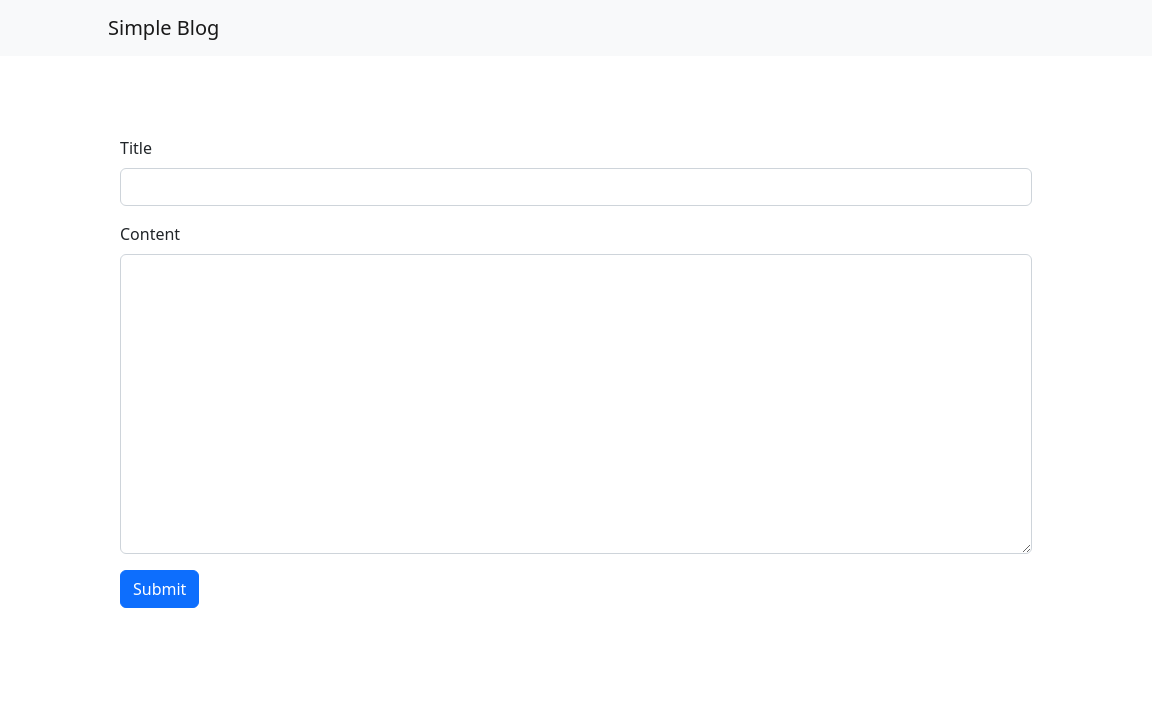
it: WriteView › Failed submission
This screenshot has width=1152, height=720.
Expected: the text box labelled "Content" is shown, top-left (120, 254), bottom-right (1032, 554)
Expected: the button "Submit" is shown, top-left (120, 570), bottom-right (199, 608)
submitting an item
Step 1. Type "Test " into the field labelled "Title" → coordinates (576, 187), box top-left (120, 168), bottom-right (1032, 206)
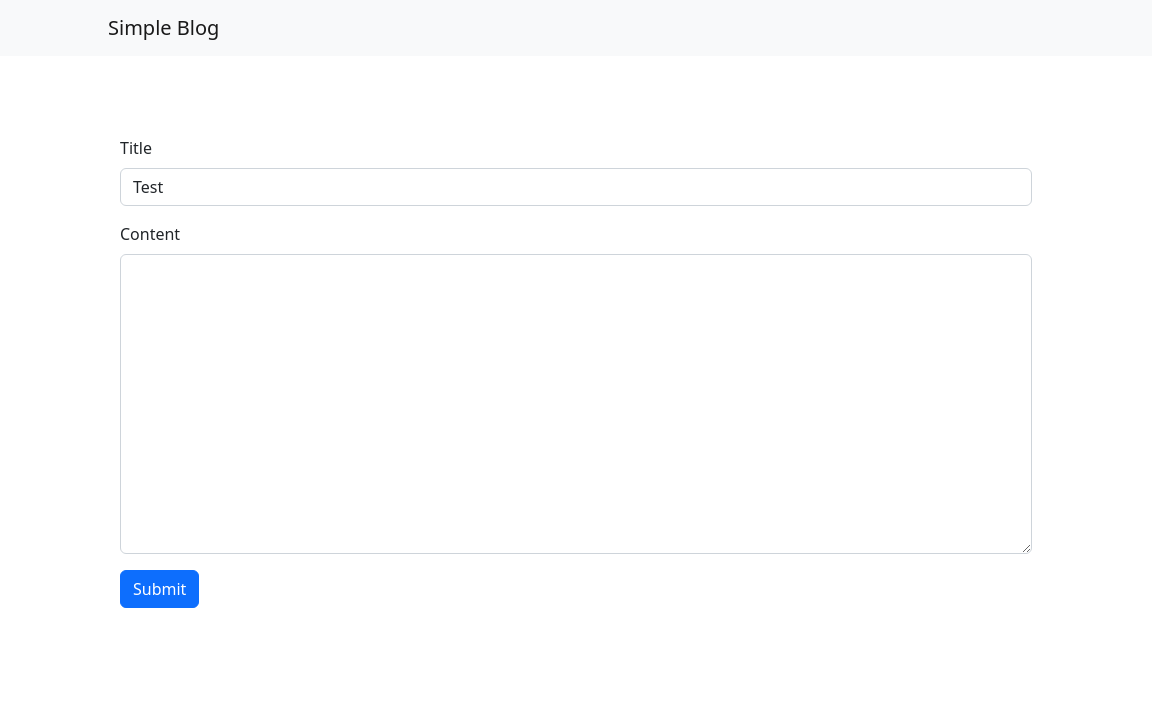
Step 2. Type "Test Value" into the text box labelled "Content" → coordinates (576, 404), box top-left (120, 254), bottom-right (1032, 554)
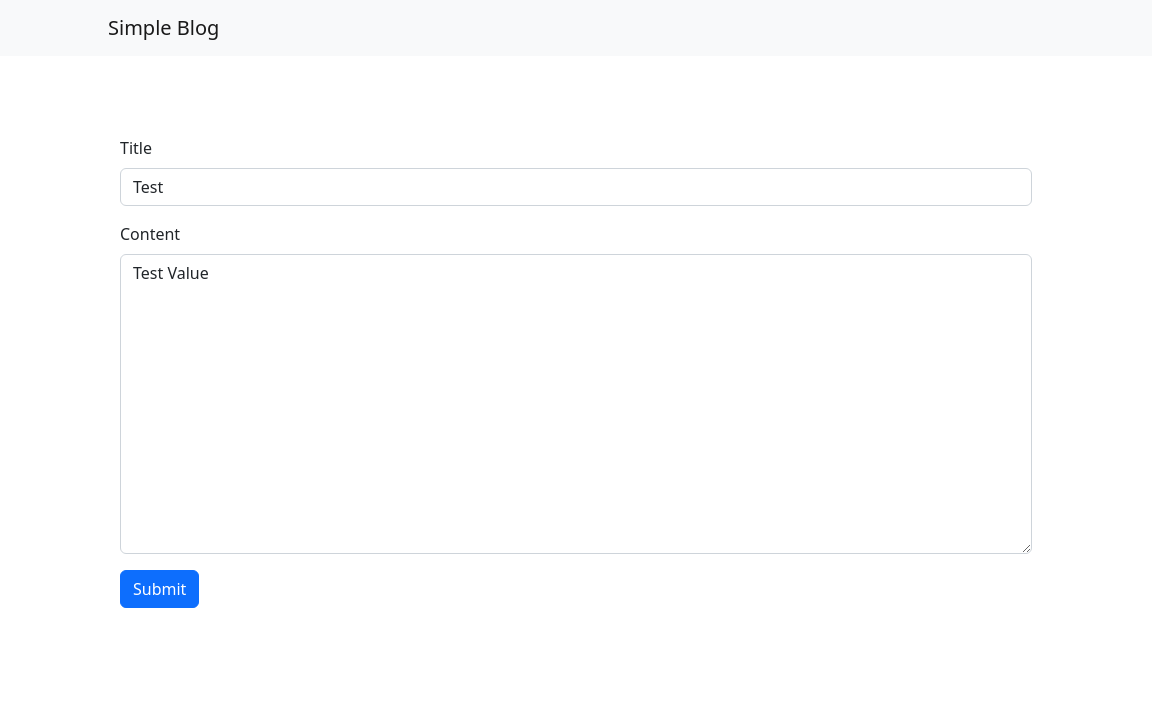
Step 3. Click the button "Submit" → coordinates (160, 589), box top-left (120, 570), bottom-right (199, 608)
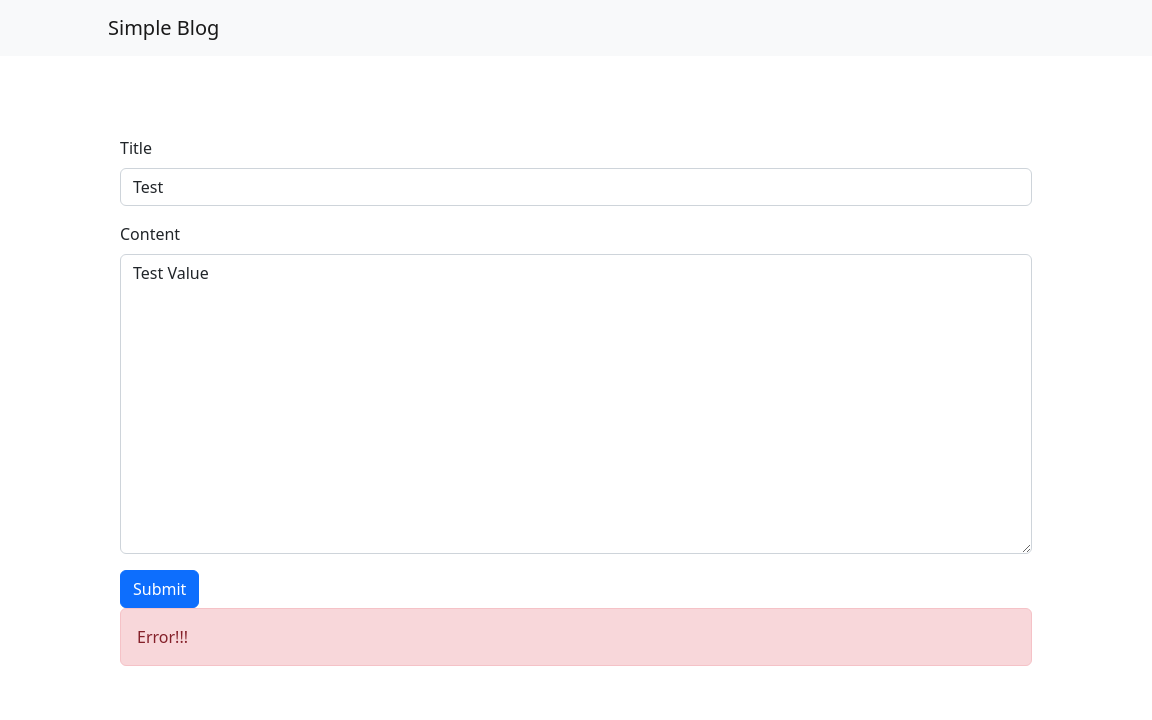
Result: the message "Error!!!" is shown at top-left (120, 608), bottom-right (1032, 666)
Result: the message reads "Error!!!" at top-left (137, 626), bottom-right (188, 648)
